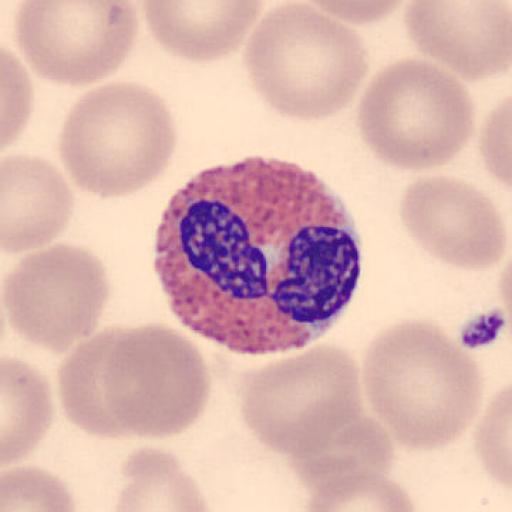RBC: (402, 84, 512, 271), (361, 316, 484, 454), (240, 0, 370, 123), (57, 78, 179, 201), (355, 56, 477, 174), (238, 344, 365, 456), (102, 319, 212, 441), (1, 240, 111, 354), (283, 402, 395, 508), (12, 0, 140, 89), (398, 172, 509, 269), (56, 327, 144, 440), (402, 0, 512, 82), (2, 150, 76, 256), (142, 0, 262, 65), (112, 444, 217, 512), (2, 355, 55, 469), (304, 469, 419, 512), (473, 383, 512, 493), (1, 44, 35, 153), (2, 464, 78, 512), (478, 94, 512, 190), (300, 0, 413, 25)
WBC: (150, 156, 366, 356)
